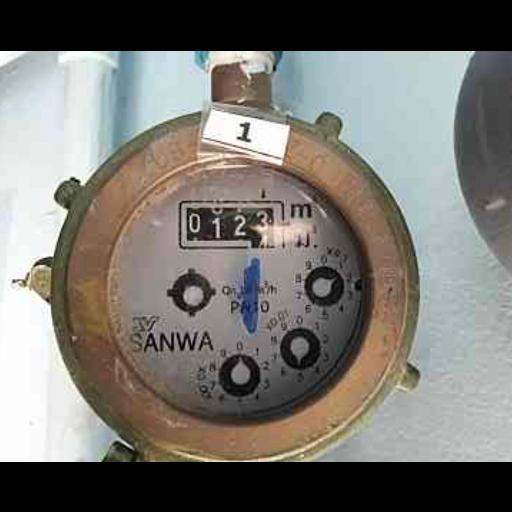0: (185, 207, 207, 240)
1: (207, 206, 229, 240)
2: (229, 206, 252, 240)
3: (251, 206, 274, 248)
border_water_meter_number: (179, 199, 286, 249)
